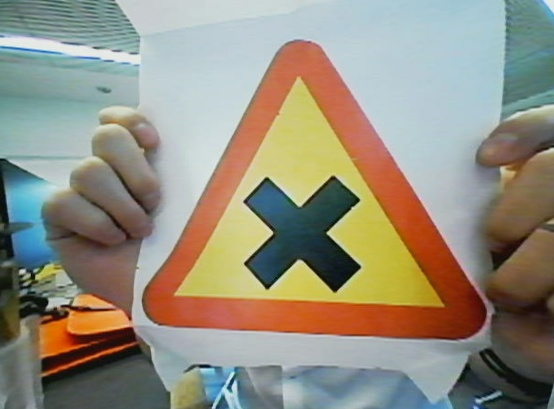junction: (129, 34, 496, 338)
